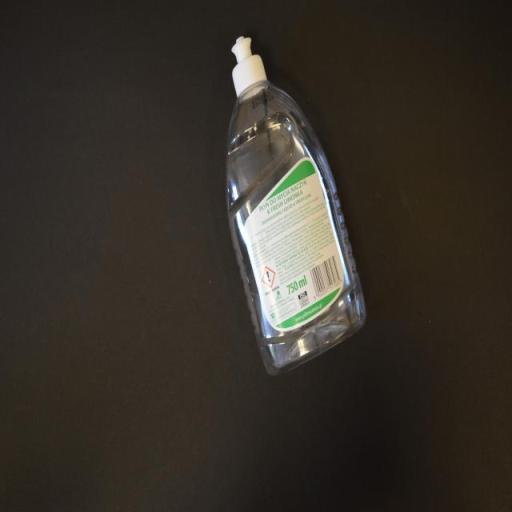plastic: (226, 35, 364, 380)
